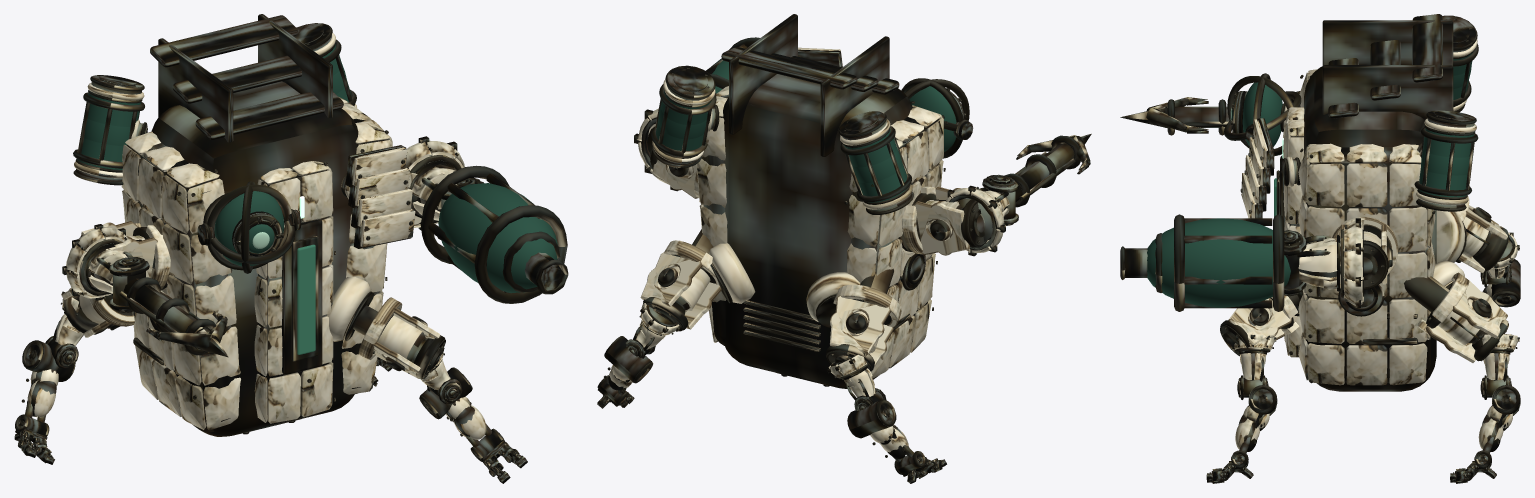
The model's file is regulator-assembled.glb.
3 views of the same model, side by side, from view 1: azimuth 30°, elevation 25°; view 2: azimuth 150°, elevation 25°; view 3: azimuth 270°, elevation 25° (orthographic). The views are drawn at different scales.
Parts seen in each view (by area): view 1: regulator-detail-ceramic, regulator-detail-metal, regulator-steel, arm-acid-icon-v1-glass, arm-acid-icon-v1-brass, leg-universal-icon-v2-steel (×2), organ-armor-icon-v1-ceramic, joint-ceramic (×3), arm-harpoon-icon-v1-brass, organ-stabilizer-icon-v1-brass, arm-harpoon-icon-v1-steel, arm-acid-icon-v1-steel (+18 smaller); view 2: regulator-steel, regulator-detail-ceramic, regulator-detail-metal, joint-ceramic (×4), leg-universal-icon-v2-steel (×2), joint-machined (×3), arm-harpoon-icon-v1-steel, leg-universal-icon-v2-ceramic (×2), arm-harpoon-icon-v1-brass, sealed-socket-casing (×2), regulator-detail-brass, organ-regen-icon-v1-brass (+16 smaller); view 3: regulator-detail-ceramic, regulator-detail-metal, arm-acid-icon-v1-glass, joint-ceramic (×4), regulator-steel, leg-universal-icon-v2-steel (×3), arm-acid-icon-v1-steel, joint-machined (×4), arm-acid-icon-v1-brass, leg-universal-icon-v2-ceramic (×2), arm-acid-icon-v1-ceramic, leg-universal-icon-v2-brass (×3) (+18 smaller).
Part boxes in pixels (x1,y1,x2,y2): regulator-detail-ceramic: (121, 97, 392, 430); regulator-detail-metal: (126, 14, 386, 434); regulator-steel: (151, 81, 358, 436); arm-acid-icon-v1-glass: (438, 183, 557, 293); arm-acid-icon-v1-brass: (410, 136, 568, 303); leg-universal-icon-v2-steel (×2): (14, 298, 527, 483); organ-armor-icon-v1-ceramic: (345, 147, 415, 247); joint-ceramic (×3): (62, 221, 440, 378); arm-harpoon-icon-v1-brass: (62, 224, 228, 357); organ-stabilizer-icon-v1-brass: (202, 181, 297, 273); arm-harpoon-icon-v1-steel: (70, 232, 218, 349); arm-acid-icon-v1-steel: (410, 147, 564, 292); regulator-steel: (723, 74, 912, 388); regulator-detail-ceramic: (696, 85, 943, 378); regulator-detail-metal: (701, 14, 939, 386); joint-ceramic (×4): (640, 160, 969, 372); leg-universal-icon-v2-steel (×2): (597, 305, 946, 483); joint-machined (×3): (643, 193, 987, 371); arm-harpoon-icon-v1-steel: (949, 143, 1088, 250); leg-universal-icon-v2-ceramic (×2): (609, 303, 908, 454); arm-harpoon-icon-v1-brass: (947, 133, 1091, 256); sealed-socket-casing (×2): (709, 243, 860, 321); regulator-detail-brass: (697, 101, 947, 385); organ-regen-icon-v1-brass: (651, 65, 718, 167); regulator-detail-ceramic: (1283, 69, 1435, 385); regulator-detail-metal: (1280, 14, 1453, 382); arm-acid-icon-v1-glass: (1147, 218, 1290, 307); joint-ceramic (×4): (1228, 196, 1507, 362); regulator-steel: (1304, 66, 1436, 391); leg-universal-icon-v2-steel (×3): (1206, 235, 1520, 483); arm-acid-icon-v1-steel: (1124, 218, 1363, 308); joint-machined (×4): (1220, 207, 1508, 361); arm-acid-icon-v1-brass: (1120, 214, 1360, 311); leg-universal-icon-v2-ceramic (×2): (1234, 334, 1517, 449); arm-acid-icon-v1-ceramic: (1298, 221, 1363, 305); leg-universal-icon-v2-brass (×3): (1209, 232, 1520, 479).
Size of the model in its own units: 1.95 by 1.84 by 1.81.
81 materials, 73 textured.
